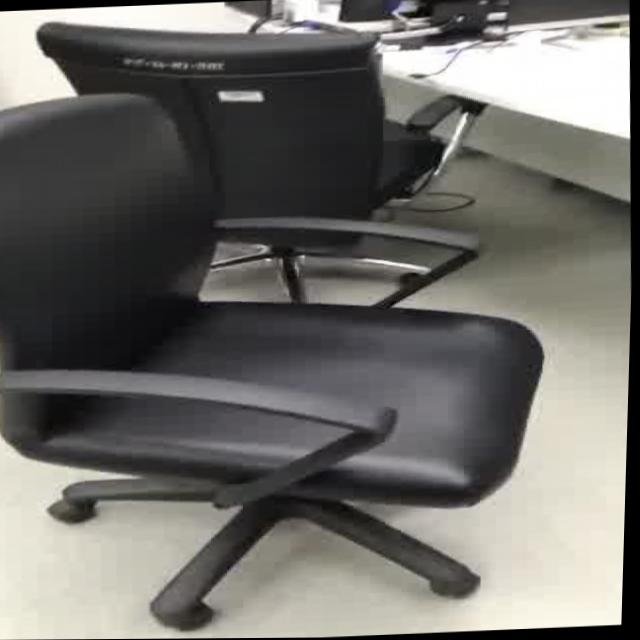chair: (0, 79, 582, 640)
